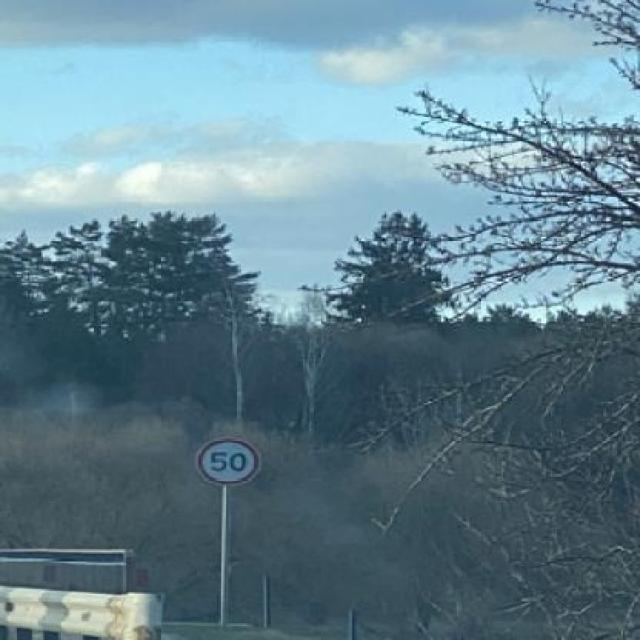forb_speed_over_50: (199, 440, 256, 486)
